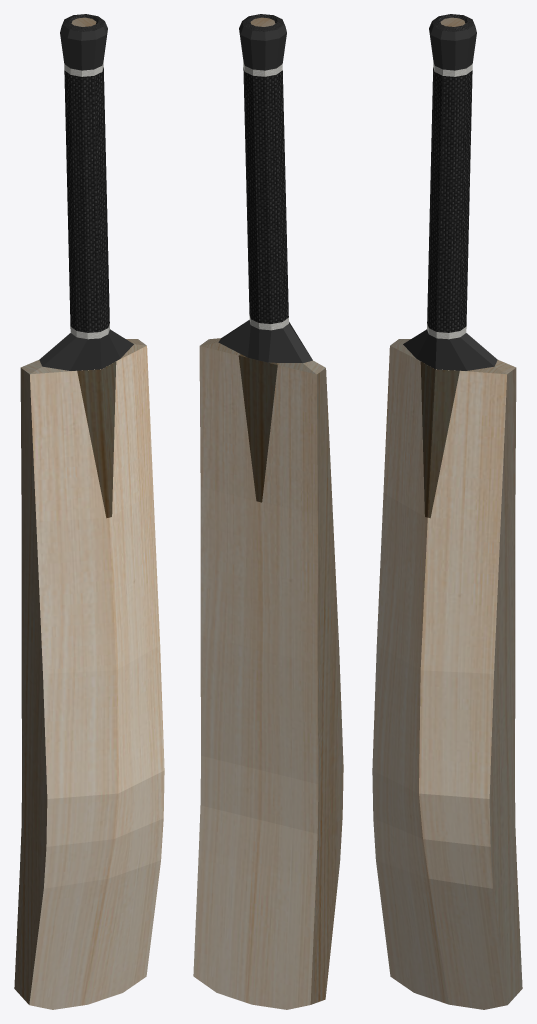
File: CricketBat.fbx
The picture shows the model from 3 angles, left to right: view 1: azimuth 30°, elevation 25°; view 2: azimuth 150°, elevation 25°; view 3: azimuth 330°, elevation 25°; orthographic projection.
Visible parts, largest first — view 1: ZomboidCricketBat; view 2: ZomboidCricketBat; view 3: ZomboidCricketBat.
Boxes of the visible parts, x1,y1,x2,y2 form: ZomboidCricketBat: [14, 14, 164, 1009]; ZomboidCricketBat: [193, 14, 343, 1009]; ZomboidCricketBat: [372, 14, 522, 1009].
Size of the model in its own units: 0.0835 by 0.6675 by 0.0572.
